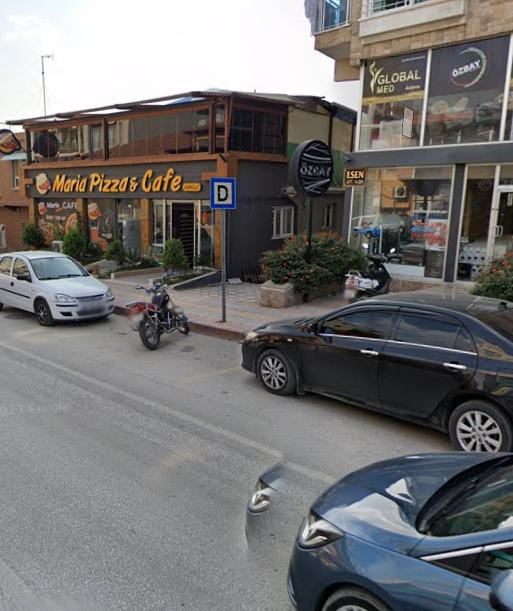station: (214, 182, 234, 209)
